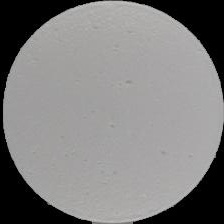68462-720: (0, 0, 224, 224)
